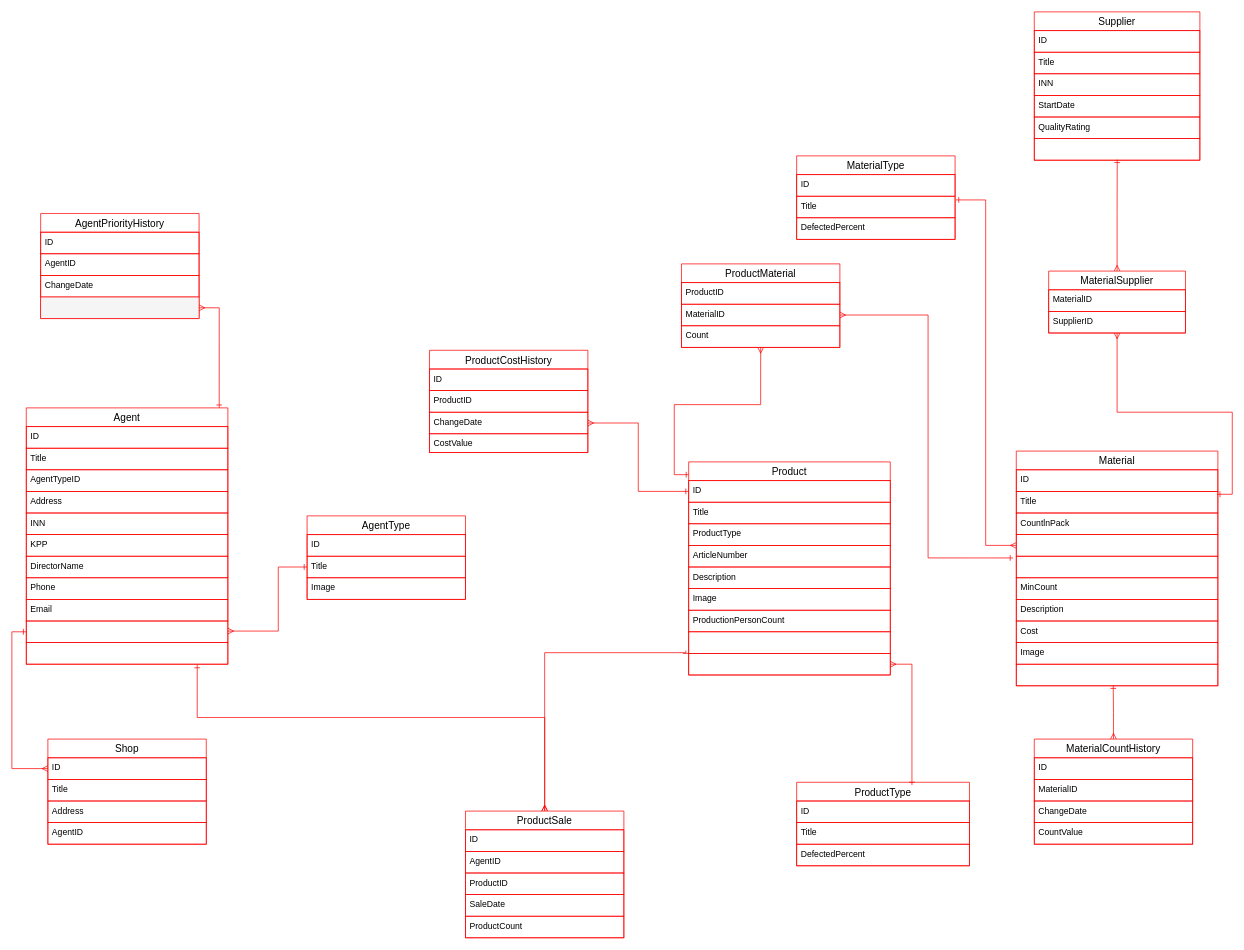
Some shapes in this 1244 by 950 pixel diagram are drawn without their labels. The centre of each missing label's shape, as x and y in pixels:
CountlnStock: the point at 1117,566
Logo: the point at 127,631
MaterialTypeID: the point at 1117,674
MinCostForAgent: the point at 789,664
Priority: the point at 127,653
PriorityValue: the point at 119,307
ProductionWorkshopNumber: the point at 789,642
SuppilerType: the point at 1117,149
Unit: the point at 1117,545
